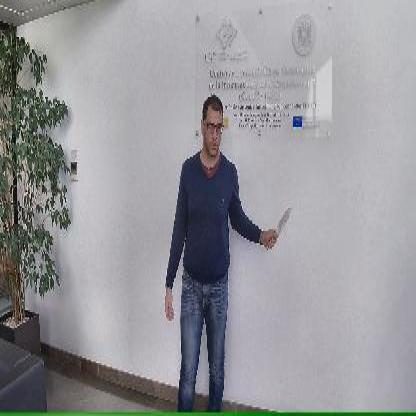knife: (263, 201, 292, 250)
